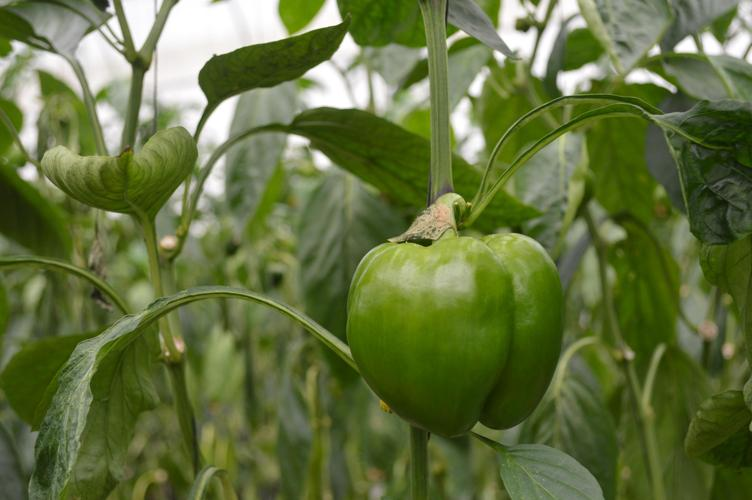BellPepper: (333, 225, 575, 442)
